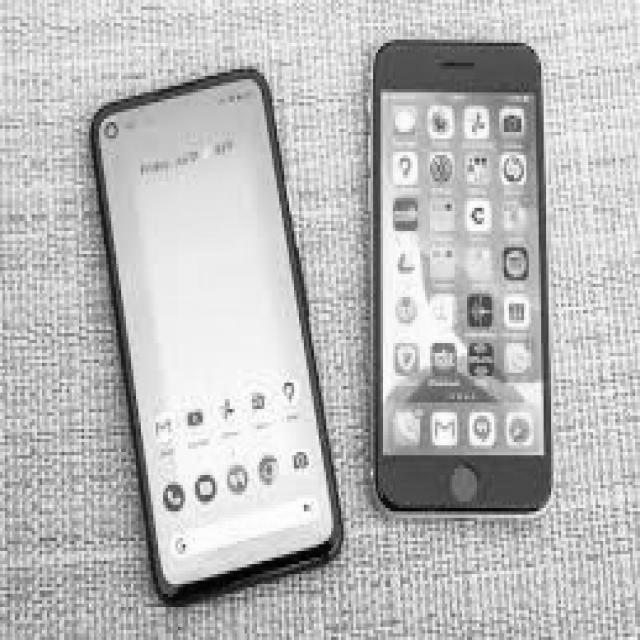fake: (369, 33, 554, 517)
